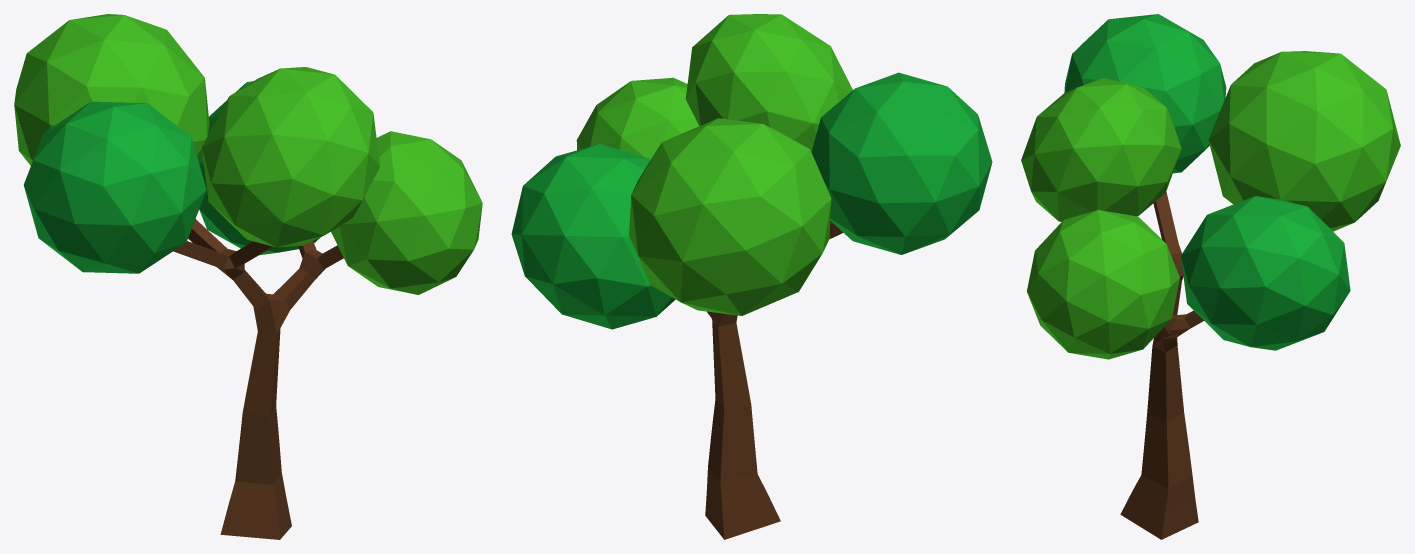
The model's file is tree5.glb.
3 views of the same model, side by side, from view 1: azimuth 30°, elevation 25°; view 2: azimuth 150°, elevation 25°; view 3: azimuth 270°, elevation 25° (orthographic). The views are drawn at different scales.
Visible parts, largest first — view 1: Icosphere.004; view 2: Icosphere.004; view 3: Icosphere.004.
Boxes of the visible parts, x1=… form: Icosphere.004: x1=14, y1=14, x2=482, y2=539; Icosphere.004: x1=511, y1=14, x2=992, y2=539; Icosphere.004: x1=1021, y1=14, x2=1400, y2=539.
Size of the model in its own units: 9.84 by 10.83 by 8.44.
